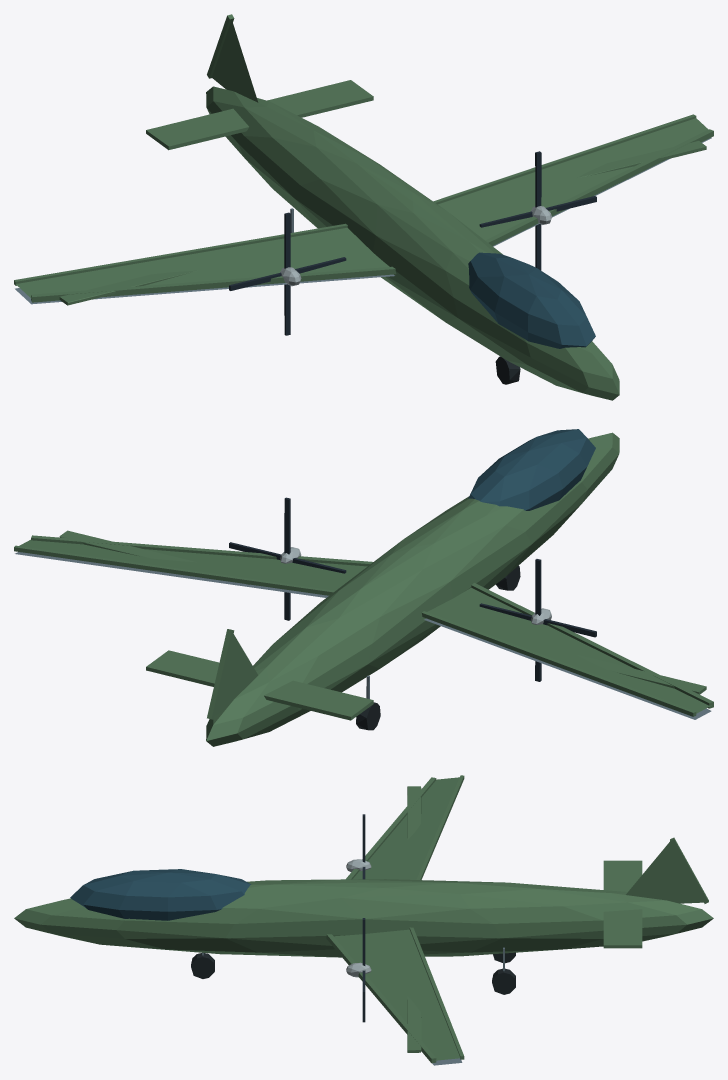
The model's file is aircraft-cargo-plane.lod1.glb.
3 renders of one model, top to bottom at view 1: azimuth 30°, elevation 25°; view 2: azimuth 150°, elevation 25°; view 3: azimuth 270°, elevation 25°, orthographic. The views are drawn at different scales.
Parts seen in each view (by area): view 1: aircraft-cargo-plane__body, aircraft-cargo-plane__propeller_0, aircraft-cargo-plane__propeller_1, aircraft-cargo-plane__aileron_-1, aircraft-cargo-plane__aileron_1; view 2: aircraft-cargo-plane__body, aircraft-cargo-plane__propeller_1, aircraft-cargo-plane__propeller_0, aircraft-cargo-plane__aileron_-1, aircraft-cargo-plane__aileron_1, aircraft-cargo-plane__gear_-0p85; view 3: aircraft-cargo-plane__body, aircraft-cargo-plane__propeller_1, aircraft-cargo-plane__aileron_1, aircraft-cargo-plane__aileron_-1, aircraft-cargo-plane__gear_0p85, aircraft-cargo-plane__gear_0, aircraft-cargo-plane__propeller_0.
Part boxes in pixels (x1=…): aircraft-cargo-plane__body: x1=14, y1=14, x2=713, y2=400; aircraft-cargo-plane__propeller_0: x1=229, y1=212, x2=346, y2=335; aircraft-cargo-plane__propeller_1: x1=479, y1=151, x2=596, y2=270; aircraft-cargo-plane__aileron_-1: x1=59, y1=270, x2=196, y2=305; aircraft-cargo-plane__aileron_1: x1=577, y1=141, x2=706, y2=177; aircraft-cargo-plane__body: x1=14, y1=429, x2=713, y2=746; aircraft-cargo-plane__propeller_1: x1=229, y1=497, x2=346, y2=620; aircraft-cargo-plane__propeller_0: x1=479, y1=559, x2=596, y2=681; aircraft-cargo-plane__aileron_-1: x1=577, y1=655, x2=706, y2=694; aircraft-cargo-plane__aileron_1: x1=59, y1=530, x2=248, y2=584; aircraft-cargo-plane__gear_-0p85: x1=356, y1=675, x2=380, y2=730; aircraft-cargo-plane__body: x1=14, y1=775, x2=713, y2=1065; aircraft-cargo-plane__propeller_1: x1=346, y1=918, x2=371, y2=1022; aircraft-cargo-plane__aileron_1: x1=407, y1=996, x2=421, y2=1052; aircraft-cargo-plane__aileron_-1: x1=407, y1=786, x2=421, y2=839; aircraft-cargo-plane__gear_0p85: x1=492, y1=947, x2=515, y2=994; aircraft-cargo-plane__gear_0: x1=191, y1=952, x2=214, y2=978; aircraft-cargo-plane__propeller_0: x1=346, y1=814, x2=371, y2=879.
Bounding box in the file's own units: 15.23 × 3.5 × 16.
